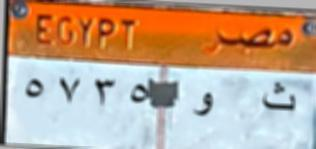3: (89, 74, 118, 114)
5: (123, 77, 152, 110), (23, 75, 46, 106)
7: (55, 77, 83, 108)
thaa: (258, 79, 301, 118)
waw: (186, 89, 223, 124)
